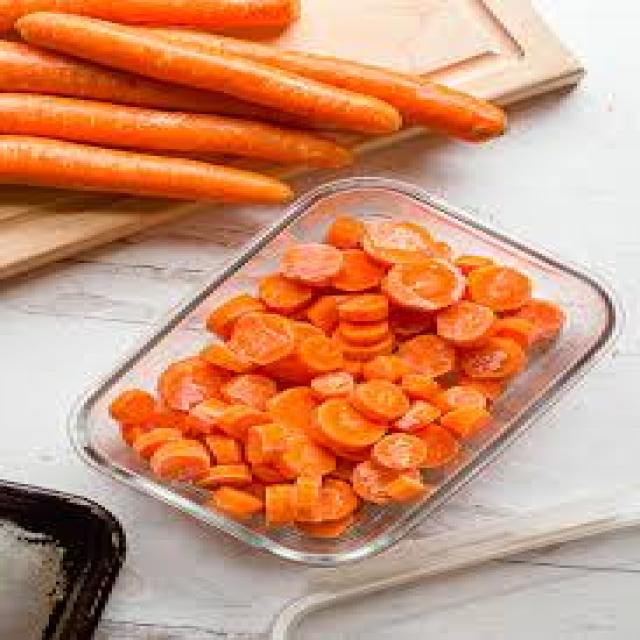Carrot: (124, 276, 520, 488), (0, 34, 515, 137), (0, 9, 413, 133), (0, 131, 301, 203), (0, 109, 362, 161)
